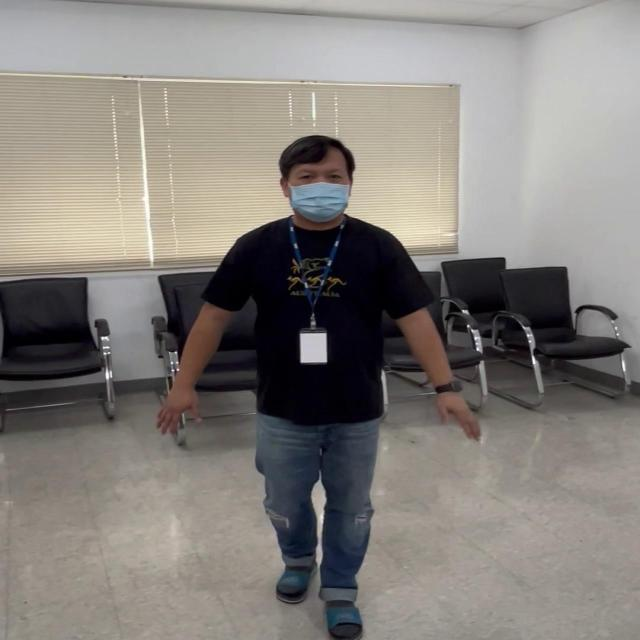bare_hand: (432, 388, 482, 447), (152, 382, 201, 440)
